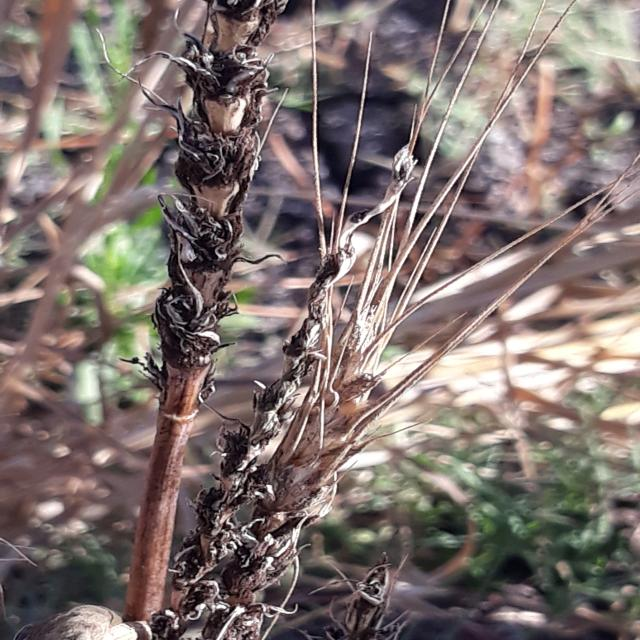loose_charred: (153, 130, 475, 640), (110, 0, 296, 640), (295, 556, 440, 640)
